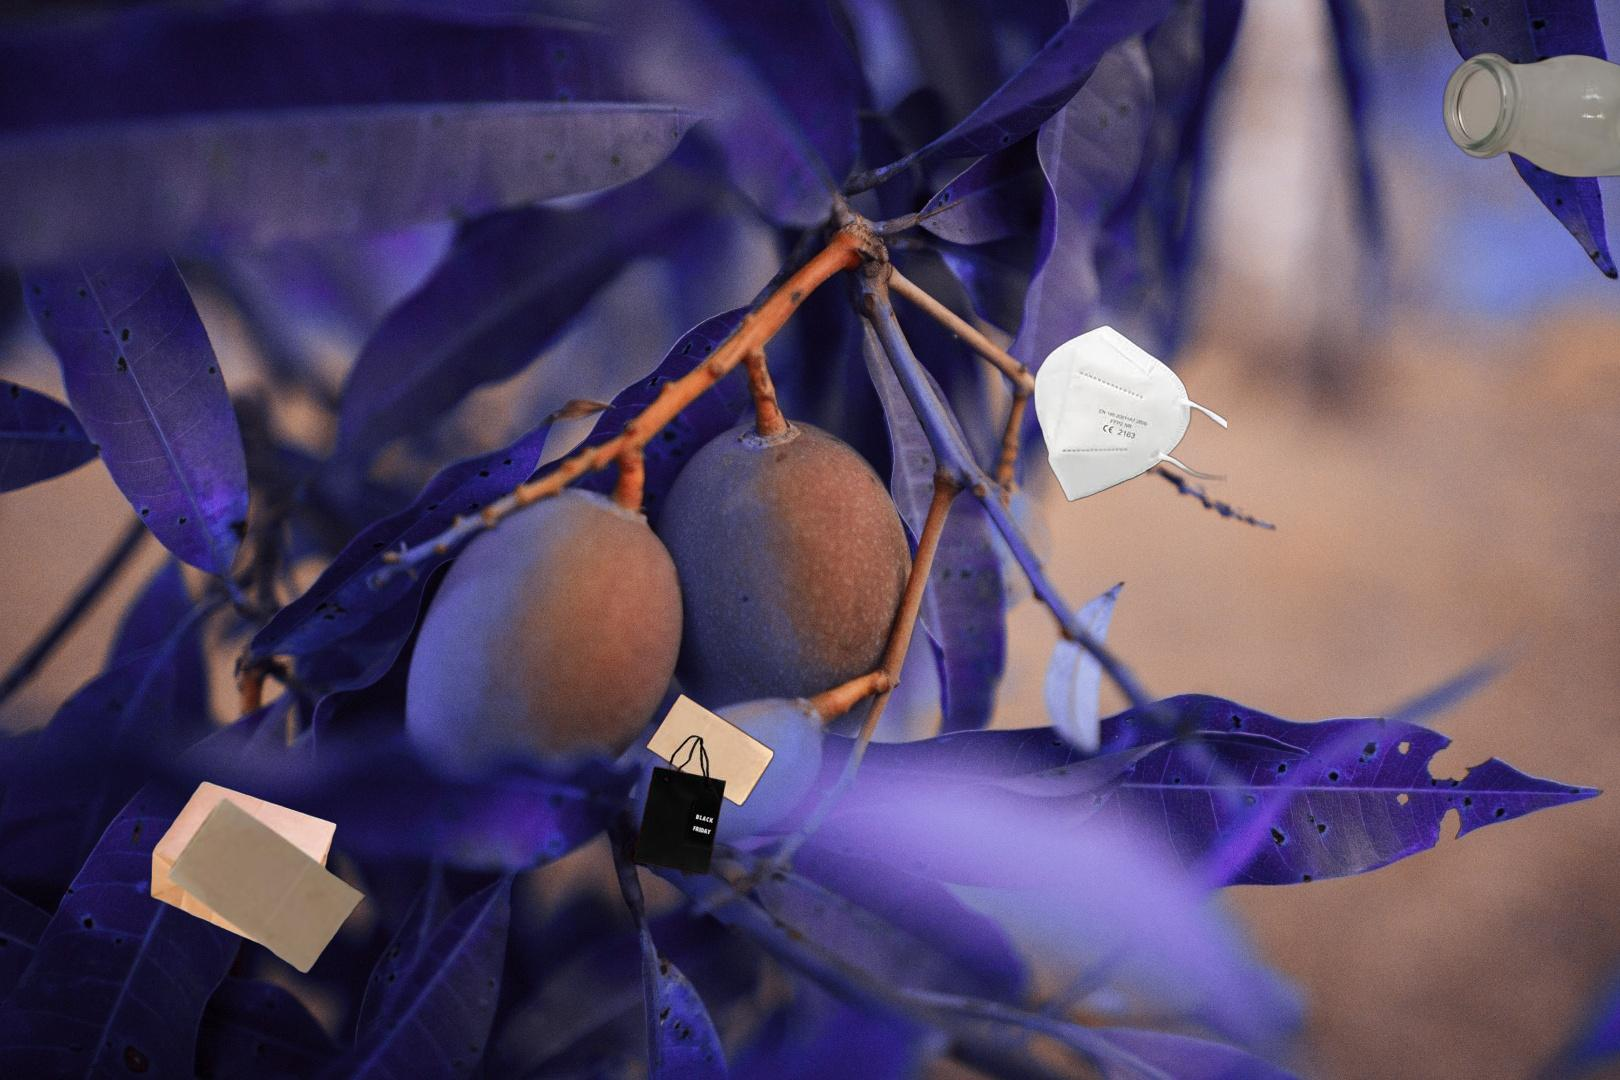glass: (1438, 49, 1620, 181)
paper-bag: (148, 779, 369, 976), (630, 689, 777, 877)
trash: (1031, 322, 1227, 504)
